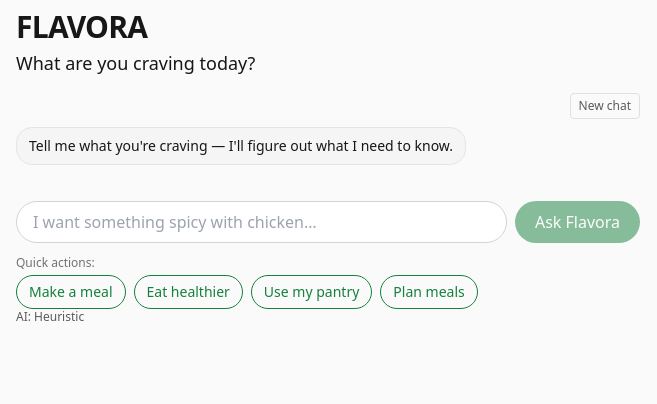
it: Home conversational flow › retry does not duplicate the user bubble
Type "i want chicken" into the field named "Tell Flavora what you want". click: (261, 222)
box: [16,201,507,243]
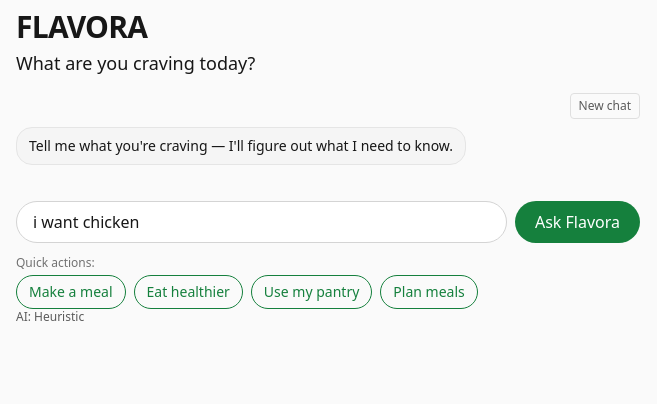
Click the button "Ask Flavora". click: (577, 222)
box: [515,201,640,243]
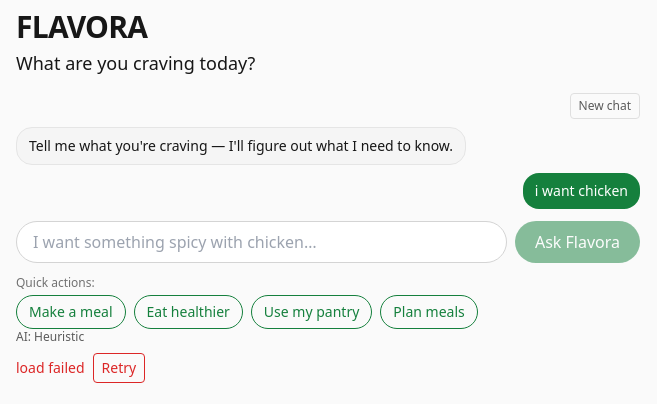
expect the button "Retry" is shown: met
expect the text "i want chicken" is shown once: met, box [523,173,640,209]
Click the button "Retry". click: (119, 368)
box: [93,353,145,383]
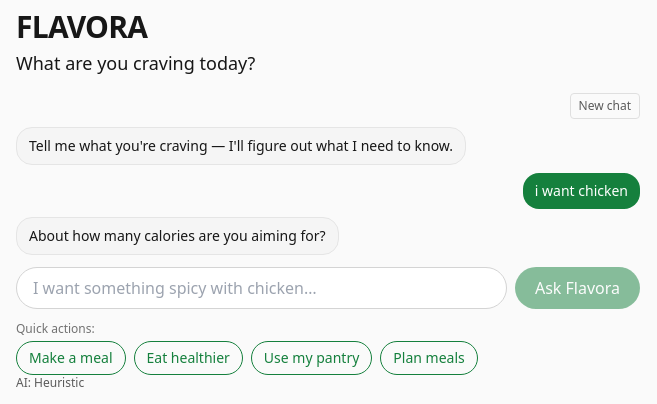
expect the text "About how many calories are you aiming for?" is shown: met, box [16,217,338,255]
expect the text "i want chicken" is shown once: met, box [523,173,640,209]
